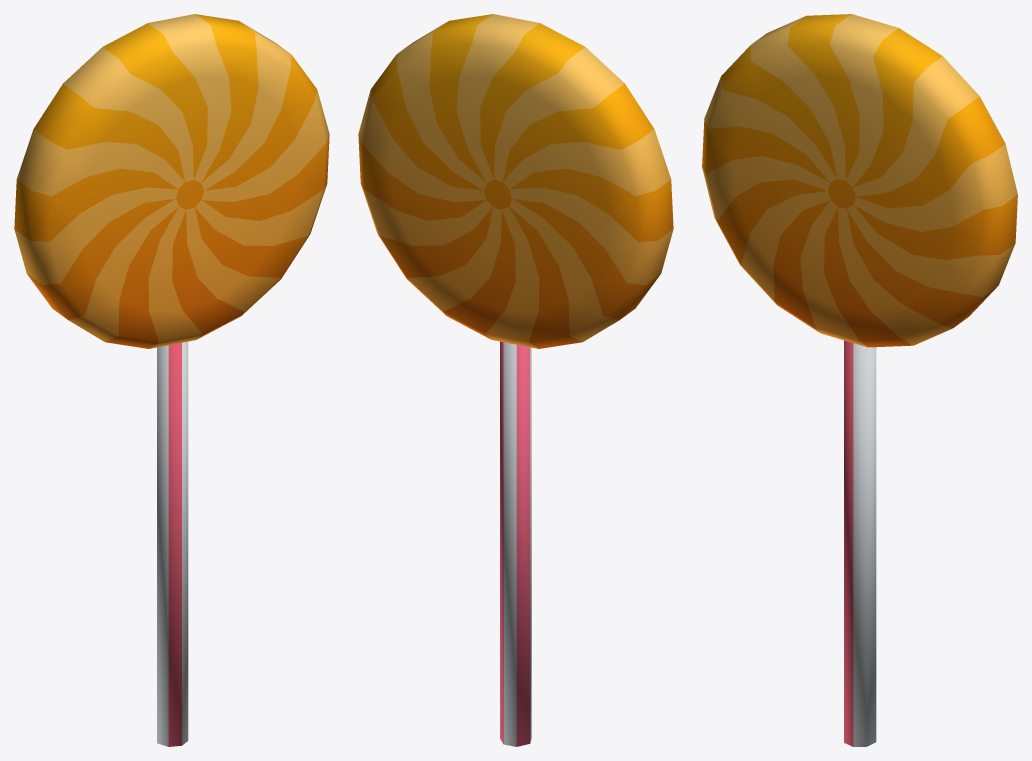
The model's file is lollipop_003.fbx.
3 views of the same model, side by side, from view 1: azimuth 30°, elevation 25°; view 2: azimuth 150°, elevation 25°; view 3: azimuth 330°, elevation 25° (orthographic).
Visible parts, largest first — view 1: lollipop_003; view 2: lollipop_003; view 3: lollipop_003.
Part boxes in pixels (bbox=[...]): lollipop_003: bbox=[14, 14, 329, 746]; lollipop_003: bbox=[358, 14, 673, 746]; lollipop_003: bbox=[702, 14, 1017, 746].
Bounding box in the file's own units: 6.33 × 1.32 × 14.46.
